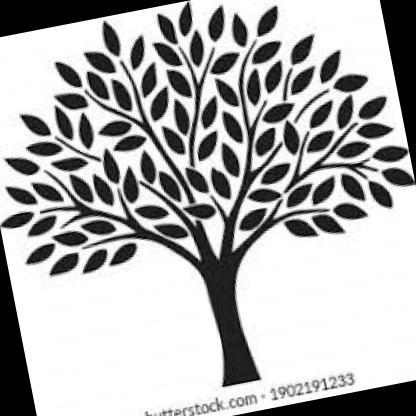trunk_straight: (201, 273, 257, 372)
